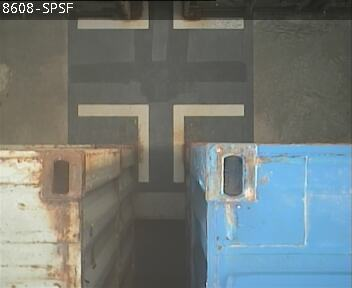groundmarker_1: (76, 103, 244, 183)
